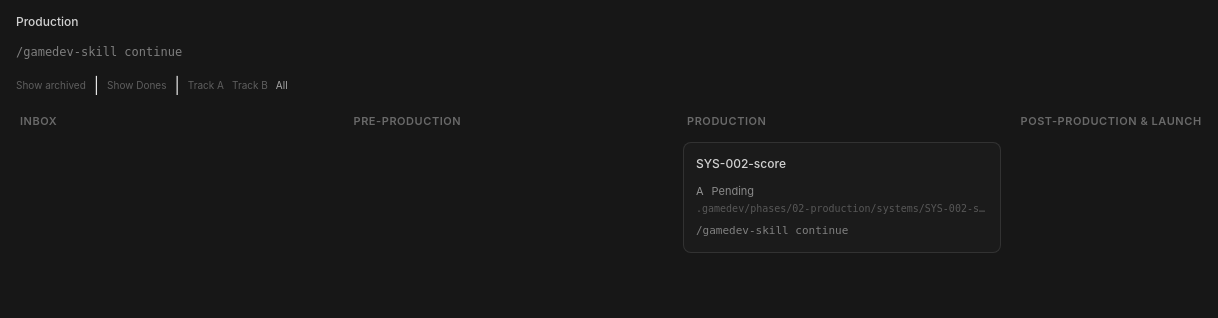
Test: GameBoardTab › Limit — empty Track A tasks still expands
The width and height of the screenshot is (1218, 318).
Click the button "SYS-002-score". click: (741, 163)
box: x1=696 y1=154 x2=988 y2=172
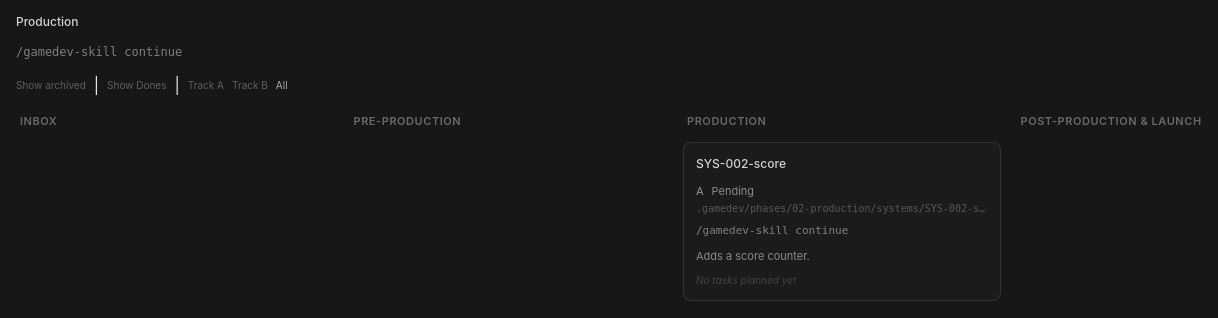
expect the element that starts with "SYS-002-score" shows "Adds a score counter.": met, box x1=696 y1=249 x2=810 y2=263
expect the element that starts with "SYS-002-score" shows "No tasks planned yet": met, box x1=696 y1=274 x2=796 y2=286
